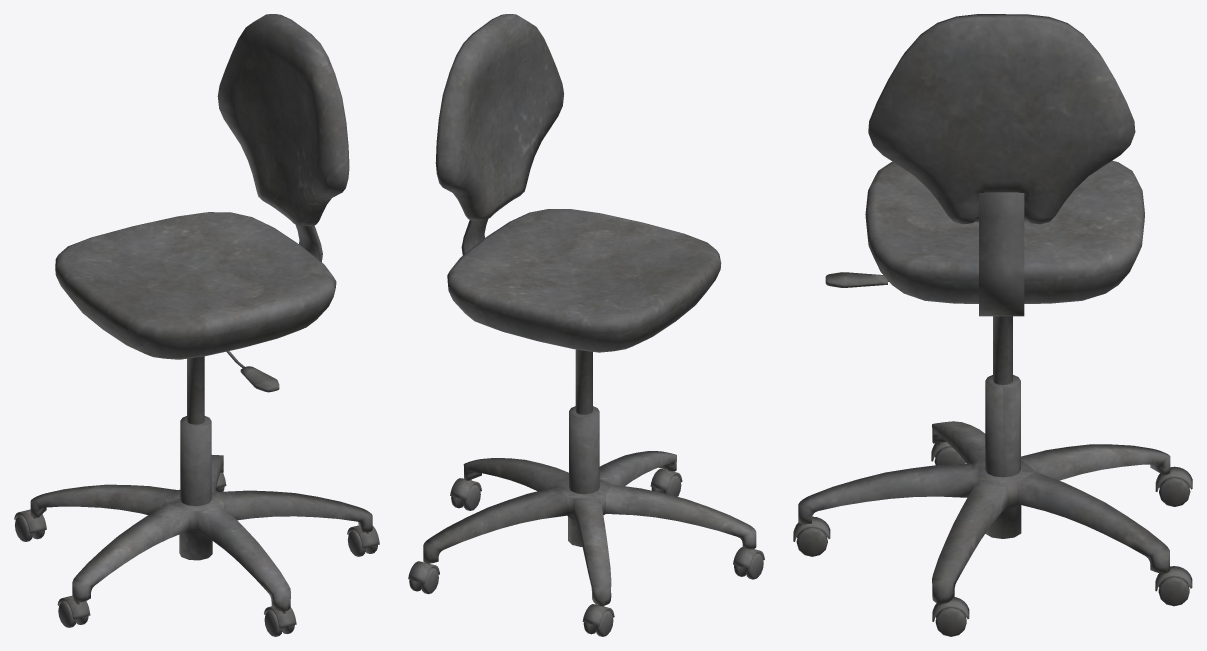
File: OfficeChair.fbx
The picture shows the model from 3 angles, left to right: view 1: azimuth 30°, elevation 25°; view 2: azimuth 150°, elevation 25°; view 3: azimuth 270°, elevation 25°; orthographic projection. The views are drawn at different scales.
Parts seen in each view (by area): view 1: OfficeChair; view 2: OfficeChair; view 3: OfficeChair.
Part boxes in pixels (box(x1,y1,x2,y2)): OfficeChair: box(14, 14, 379, 636); OfficeChair: box(408, 14, 764, 636); OfficeChair: box(793, 14, 1192, 636).
Bounding box in the file's own units: 22.29 × 35.95 × 21.98.
